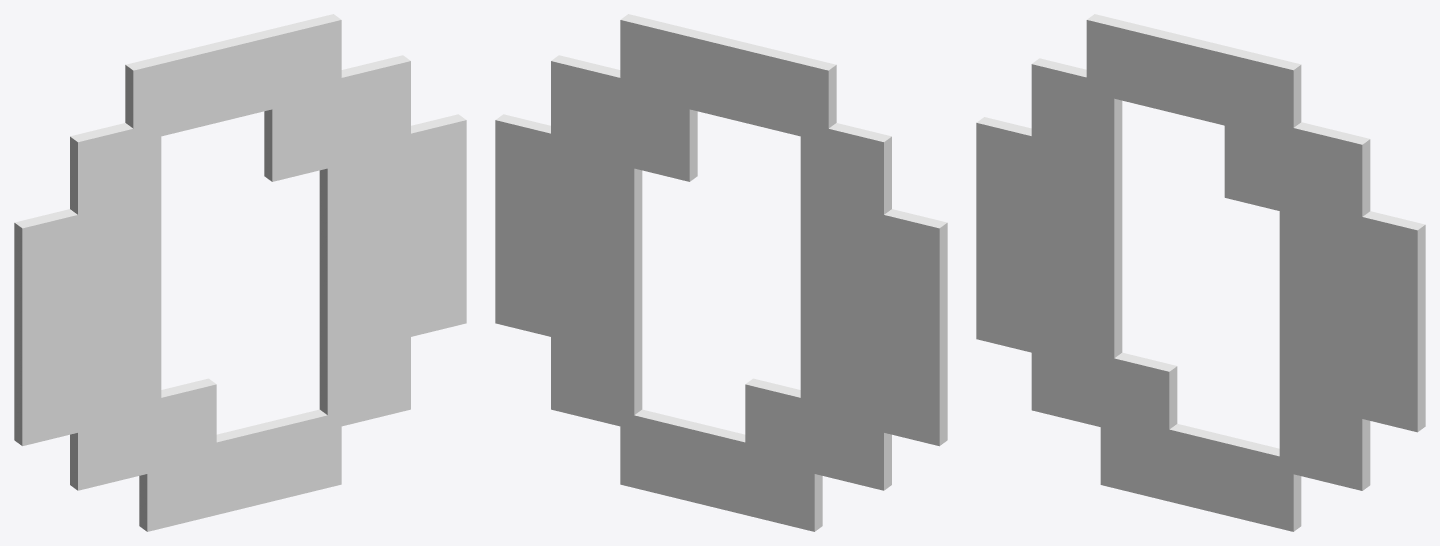
3 views of the same model, side by side, from view 1: azimuth 30°, elevation 25°; view 2: azimuth 150°, elevation 25°; view 3: azimuth 330°, elevation 25° (orthographic).
Visible parts, largest first — view 1: ch_0_32; view 2: ch_0_32; view 3: ch_0_32.
Part boxes in pixels (x1,y1,x2,y2): ch_0_32: [14, 14, 466, 531]; ch_0_32: [495, 14, 947, 531]; ch_0_32: [976, 14, 1425, 531].
Bounding box in the file's own units: 32 × 32 × 1.
1 material, 1 textured.
